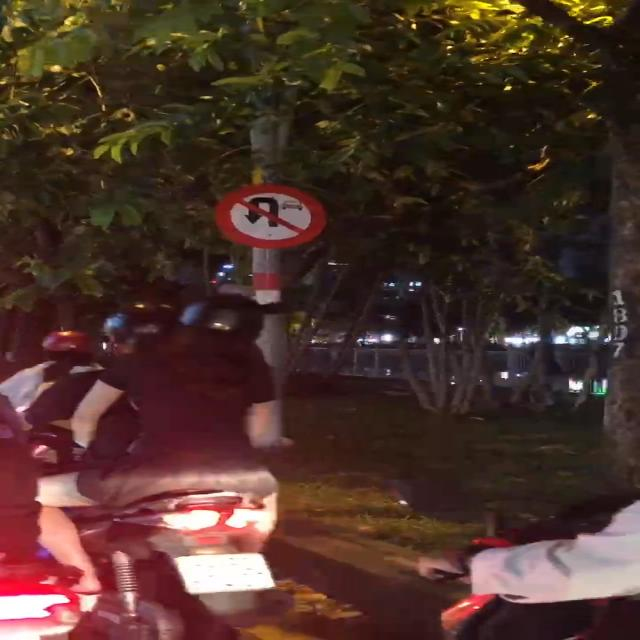Bien bao cam quay dau xe: (212, 185, 328, 249)
